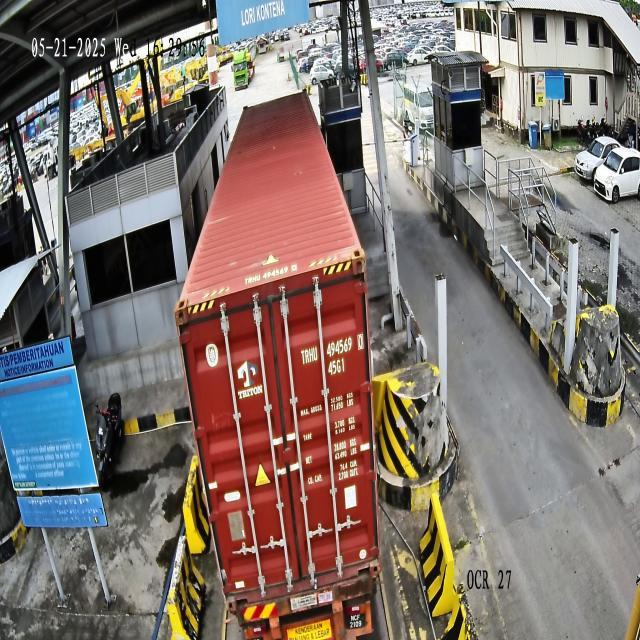ISO: (327, 358, 345, 378)
container_number: (299, 332, 364, 366)
